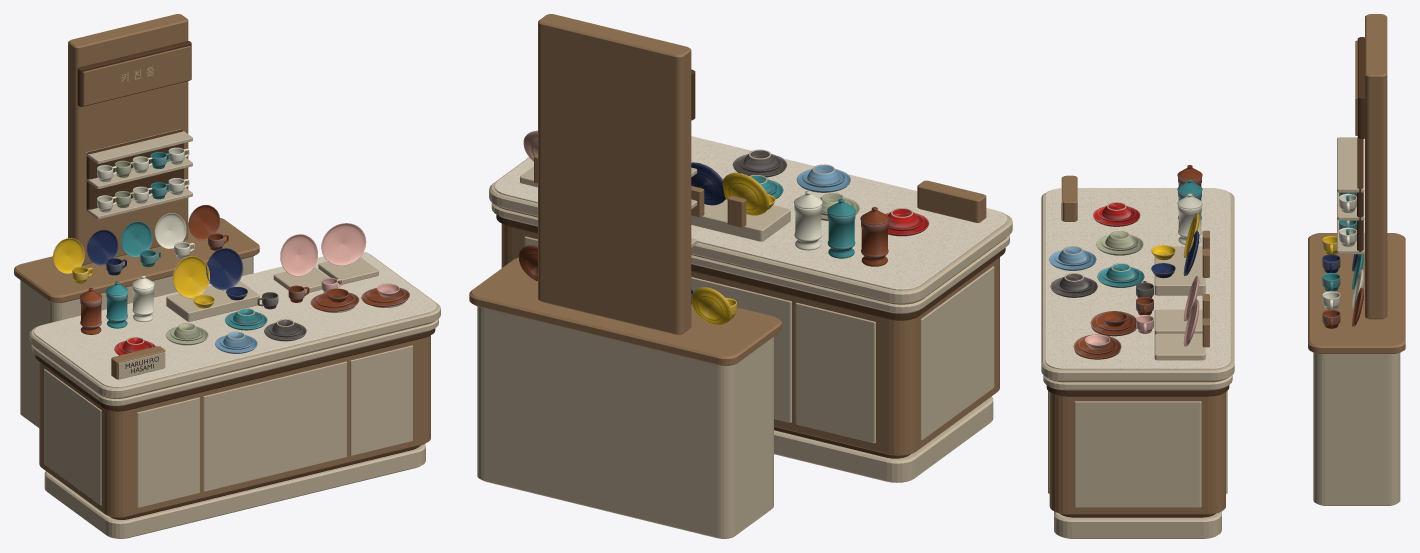
Rendered from gallery.glb.
The picture shows the model from 3 angles, left to right: view 1: azimuth 30°, elevation 25°; view 2: azimuth 150°, elevation 25°; view 3: azimuth 270°, elevation 25°; orthographic projection. The views are drawn at different scales.
Visible parts, largest first — view 1: KitchenToolHasamiCase, KitchenToolHasamiGlaze, KitchenToolHasamiStone; view 2: KitchenToolHasamiCase, KitchenToolHasamiStone, KitchenToolHasamiGlaze; view 3: KitchenToolHasamiCase, KitchenToolHasamiStone, KitchenToolHasamiGlaze.
Part boxes in pixels (<box>): KitchenToolHasamiCase: <box>14,14,440,538</box>; KitchenToolHasamiGlaze: <box>53,147,409,355</box>; KitchenToolHasamiStone: <box>33,252,436,387</box>; KitchenToolHasamiCase: <box>469,14,1012,538</box>; KitchenToolHasamiStone: <box>494,136,1007,290</box>; KitchenToolHasamiGlaze: <box>519,130,929,325</box>; KitchenToolHasamiCase: <box>1041,14,1405,538</box>; KitchenToolHasamiStone: <box>1045,188,1230,369</box>; KitchenToolHasamiGlaze: <box>1049,165,1363,359</box>.
Size of the model in its own units: 2.05 by 2.12 by 1.72.
3 materials, 1 textured.
